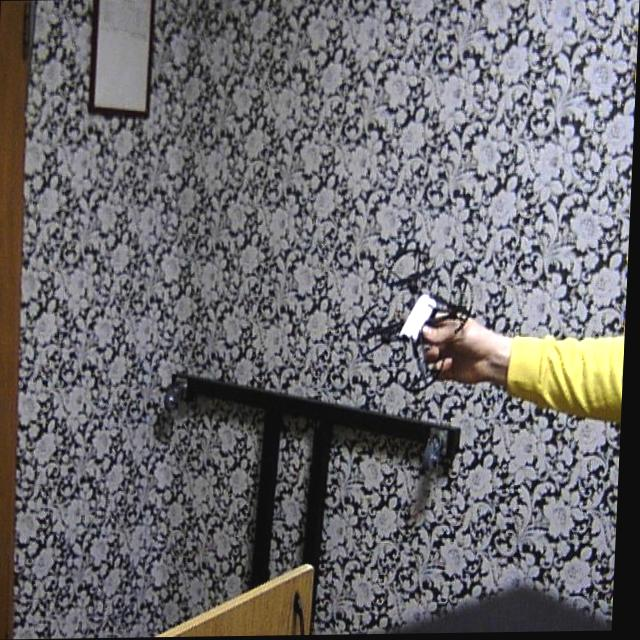drone: (356, 236, 484, 392)
